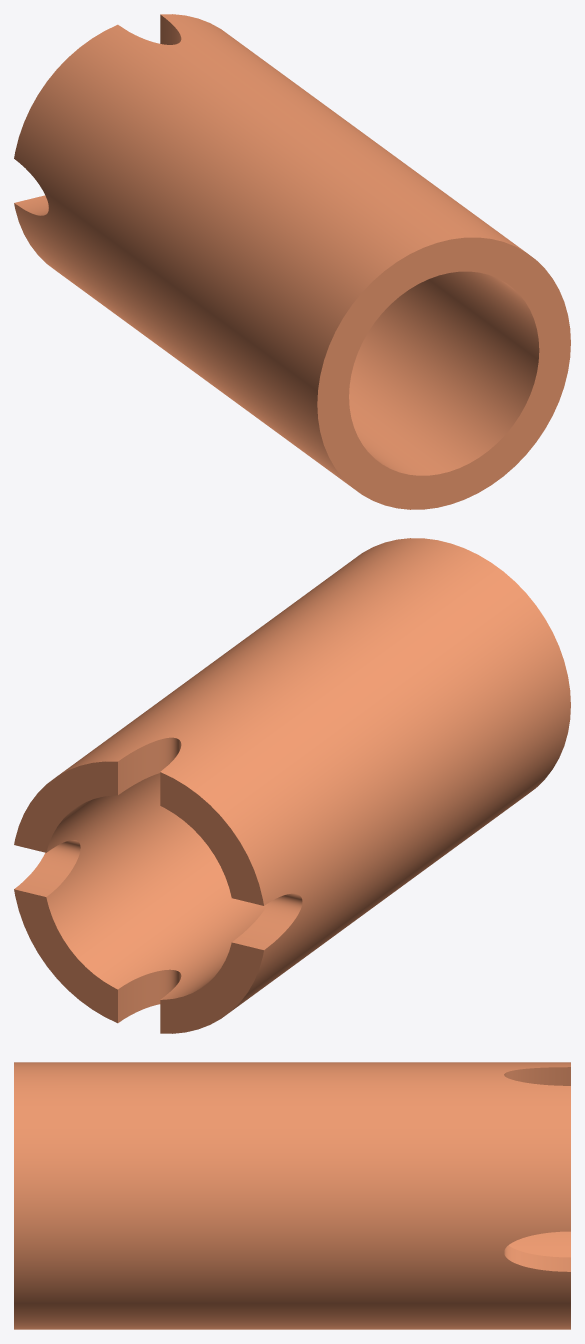
The model's file is rocketbody.gltf.
3 renders of one model, top to bottom at view 1: azimuth 30°, elevation 25°; view 2: azimuth 150°, elevation 25°; view 3: azimuth 270°, elevation 25°, orthographic. The views are drawn at different scales.
Visible parts, largest first — view 1: RocketBody; view 2: RocketBody; view 3: RocketBody.
Part boxes in pixels (x1=…): RocketBody: x1=14, y1=14, x2=570, y2=509; RocketBody: x1=14, y1=538, x2=570, y2=1033; RocketBody: x1=14, y1=1062, x2=570, y2=1329.
Size of the model in its own units: 0.024 by 0.024 by 0.05.
